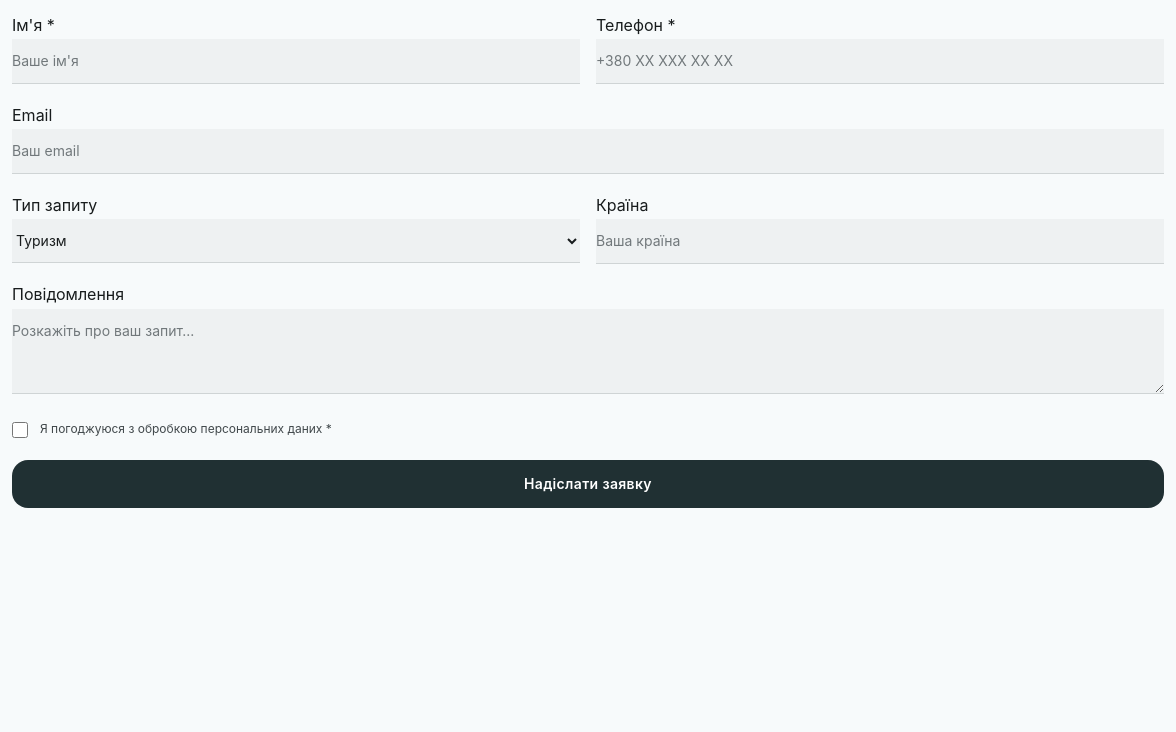
LeadForm › shows validation error when consent is not checked
This screenshot has width=1176, height=732.
Step 1. Type "Іван" into the field with placeholder "Ваше ім'я" → (296, 62), box [12,39,580,84]
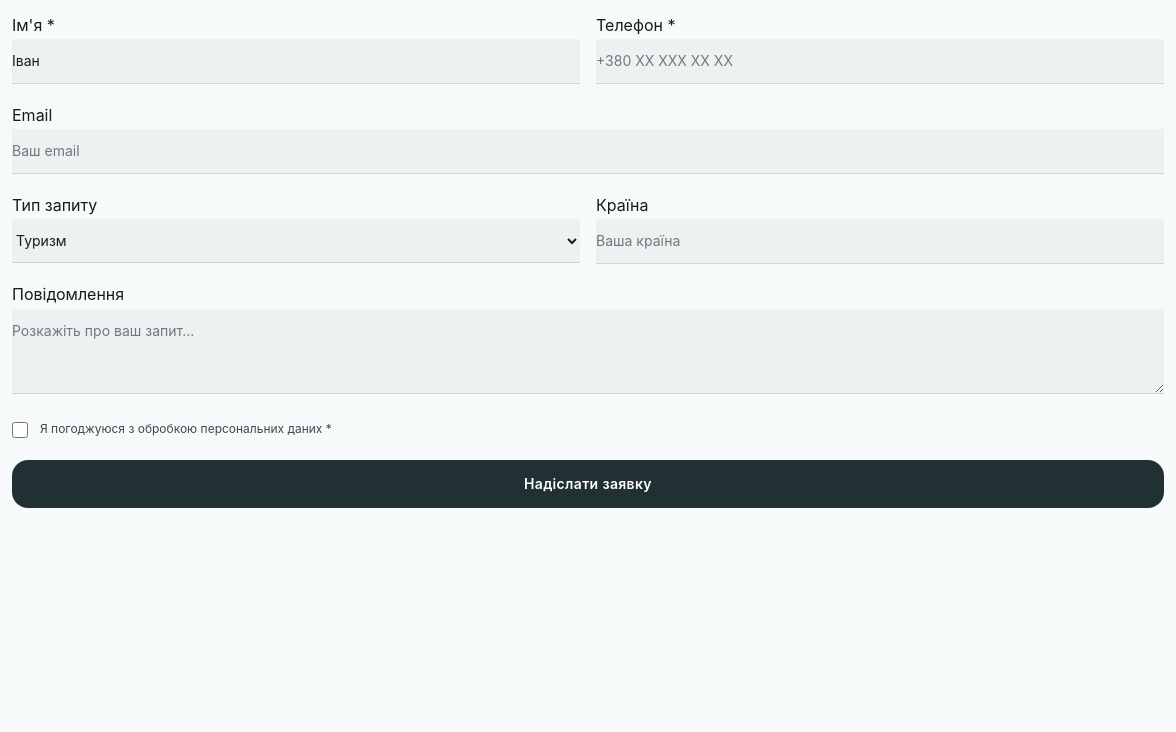
Step 2. Type "+380991234567" into the field with placeholder "+380 XX XXX XX XX" → (880, 62), box [596,39,1164,84]
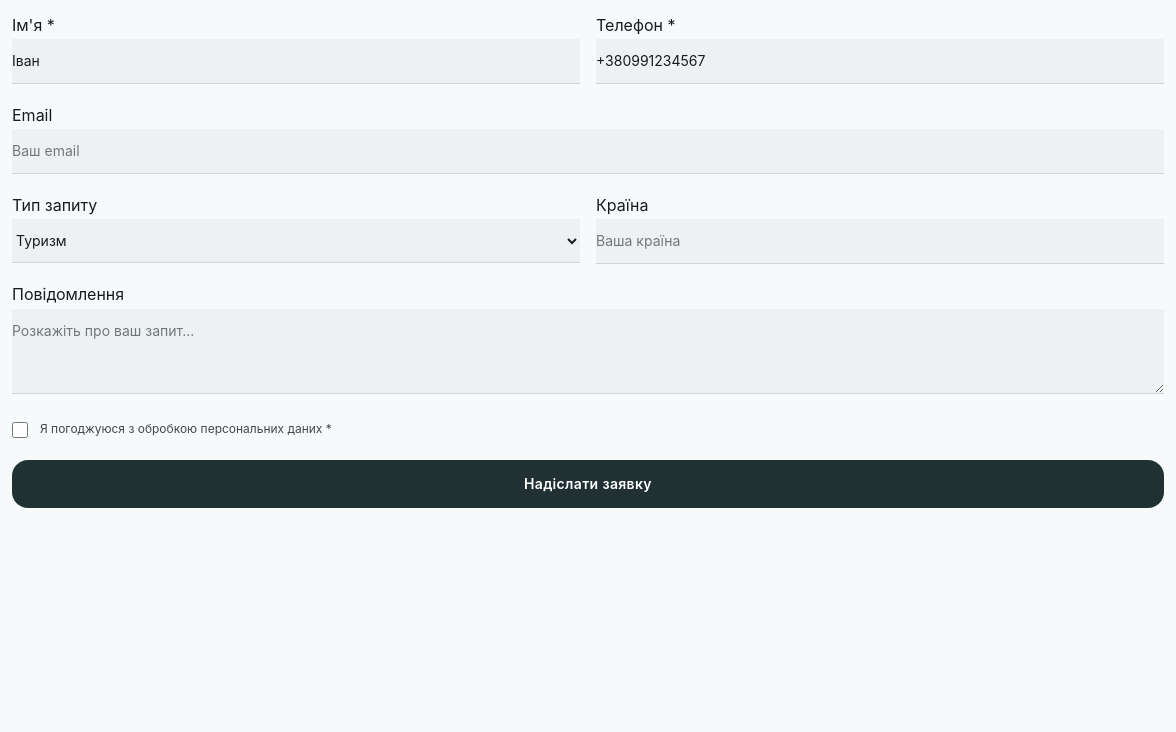
Step 3. Click the button "Надіслати заявку" → (588, 484), box [12,460,1164,508]
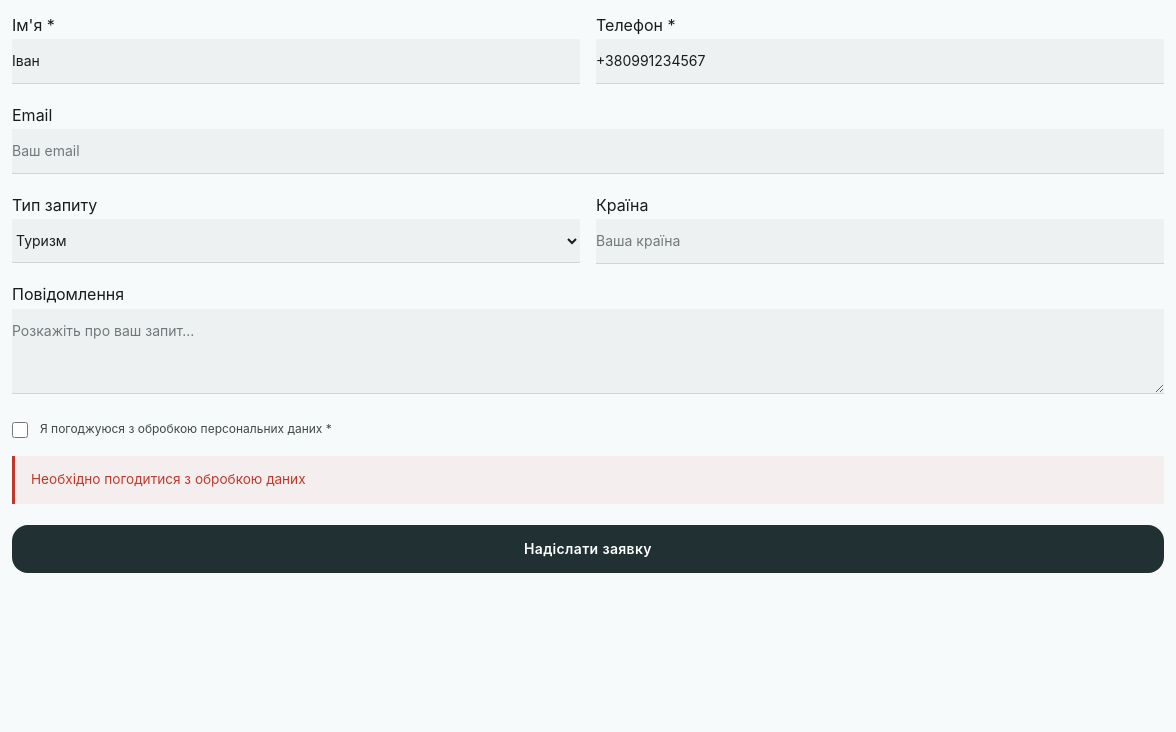
Now the text "Необхідно погодитися з обробкою даних" is shown, box [12,456,1164,504]
